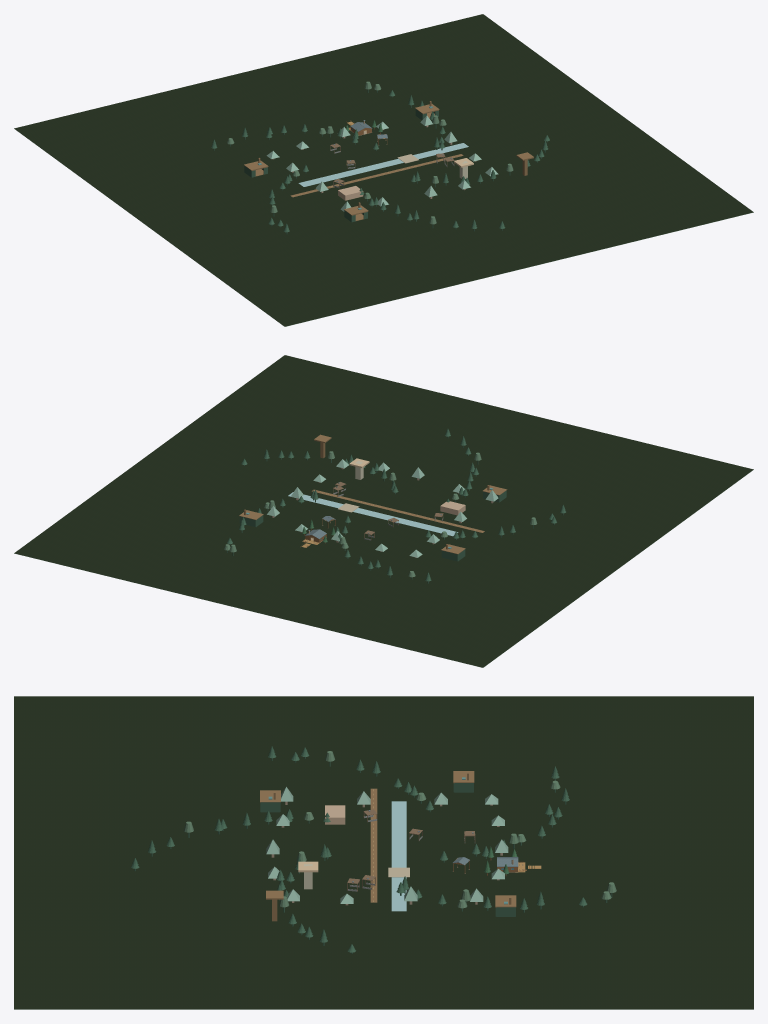
3 renders of one model, top to bottom at view 1: azimuth 30°, elevation 25°; view 2: azimuth 150°, elevation 25°; view 3: azimuth 270°, elevation 25°, orthographic. The views are drawn at different scales.
Parts seen in each view (by area): view 1: Runtime FPV textured terrain pinecrest, Runtime pinecrest_1_0_0, Runtime pinecrest_2_0_0, Runtime pinecrest_0_0_0, Runtime #47735d, Runtime #5f9396; view 2: Runtime FPV textured terrain pinecrest, Runtime pinecrest_1_0_0, Runtime pinecrest_2_0_0, Runtime pinecrest_0_0_0, Runtime #47735d, Runtime #5f9396; view 3: Runtime FPV textured terrain pinecrest, Runtime pinecrest_1_0_0, Runtime pinecrest_2_0_0, Runtime #47735d, Runtime pinecrest_0_0_0, Runtime #5f9396.
Boxes of the visible parts, x1,y1,x2,y2 form: Runtime FPV textured terrain pinecrest: [14, 14, 753, 326]; Runtime pinecrest_1_0_0: [211, 89, 549, 234]; Runtime pinecrest_2_0_0: [244, 101, 533, 220]; Runtime pinecrest_0_0_0: [15, 81, 753, 326]; Runtime #47735d: [266, 115, 498, 211]; Runtime #5f9396: [298, 143, 468, 186]; Runtime FPV textured terrain pinecrest: [14, 355, 753, 667]; Runtime pinecrest_1_0_0: [227, 429, 565, 583]; Runtime pinecrest_2_0_0: [239, 434, 507, 554]; Runtime pinecrest_0_0_0: [14, 451, 752, 667]; Runtime #47735d: [267, 459, 498, 557]; Runtime #5f9396: [288, 492, 458, 536]; Runtime FPV textured terrain pinecrest: [14, 696, 753, 1009]; Runtime pinecrest_1_0_0: [131, 746, 612, 953]; Runtime pinecrest_2_0_0: [260, 771, 516, 921]; Runtime #47735d: [266, 787, 508, 903]; Runtime pinecrest_0_0_0: [14, 751, 753, 1009]; Runtime #5f9396: [391, 801, 406, 911].
Size of the model in its own units: 880 by 34.54 by 880.
Materials: 25 (8 with a texture image).
